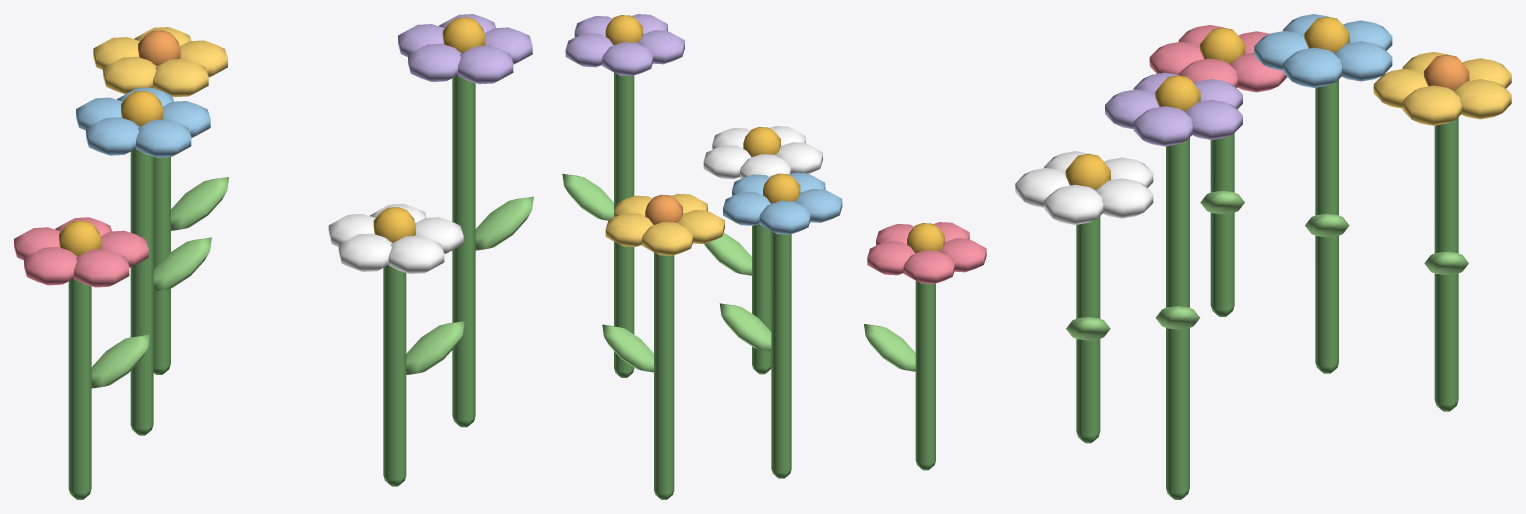
Rendered from flowers.glb.
The picture shows the model from 3 angles, left to right: view 1: azimuth 30°, elevation 25°; view 2: azimuth 150°, elevation 25°; view 3: azimuth 270°, elevation 25°; orthographic projection. The views are drawn at different scales.
Parts seen in each view (by area): view 1: Flowers; view 2: Flowers; view 3: Flowers.
Part boxes in pixels (x1,y1,x2,y2): Flowers: (14, 14, 533, 499); Flowers: (562, 14, 986, 499); Flowers: (1015, 14, 1511, 499).
Size of the model in its own units: 0.3935 by 0.312 by 0.3325.
